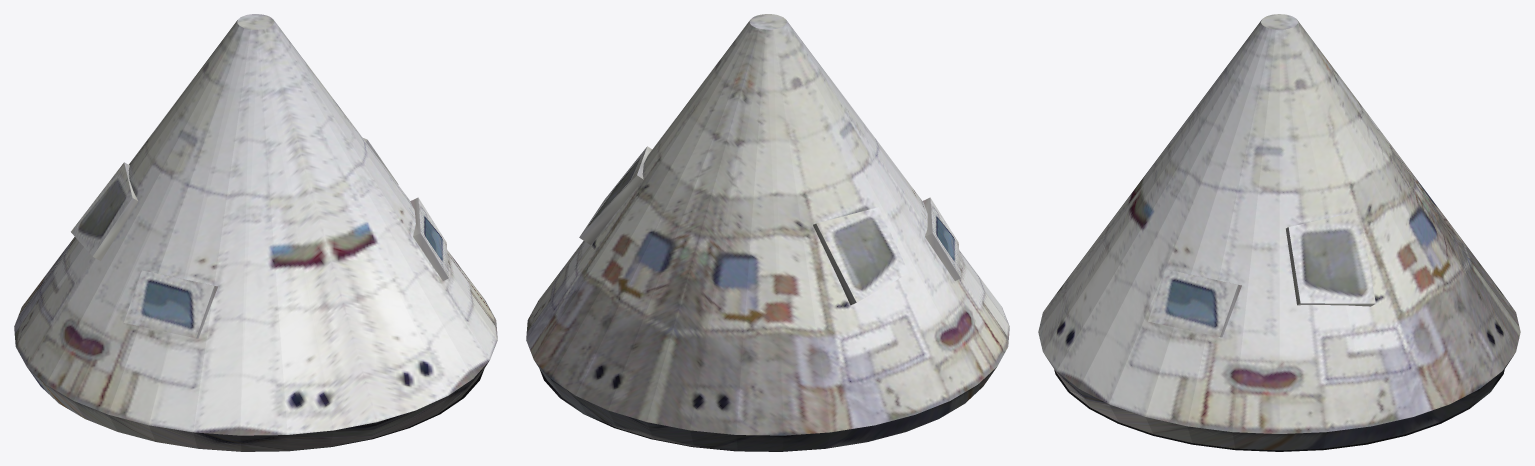
The model's file is space_capsule.obj.
The picture shows the model from 3 angles, left to right: view 1: azimuth 30°, elevation 25°; view 2: azimuth 150°, elevation 25°; view 3: azimuth 270°, elevation 25°; orthographic projection.
Visible parts, largest first — view 1: SpaceCapsule; view 2: SpaceCapsule; view 3: SpaceCapsule.
Boxes of the visible parts, bbox=[...] form: SpaceCapsule: bbox=[14, 14, 497, 451]; SpaceCapsule: bbox=[526, 14, 1009, 451]; SpaceCapsule: bbox=[1038, 14, 1520, 451].
Bounding box in the file's own units: 2 × 1.62 × 2.
